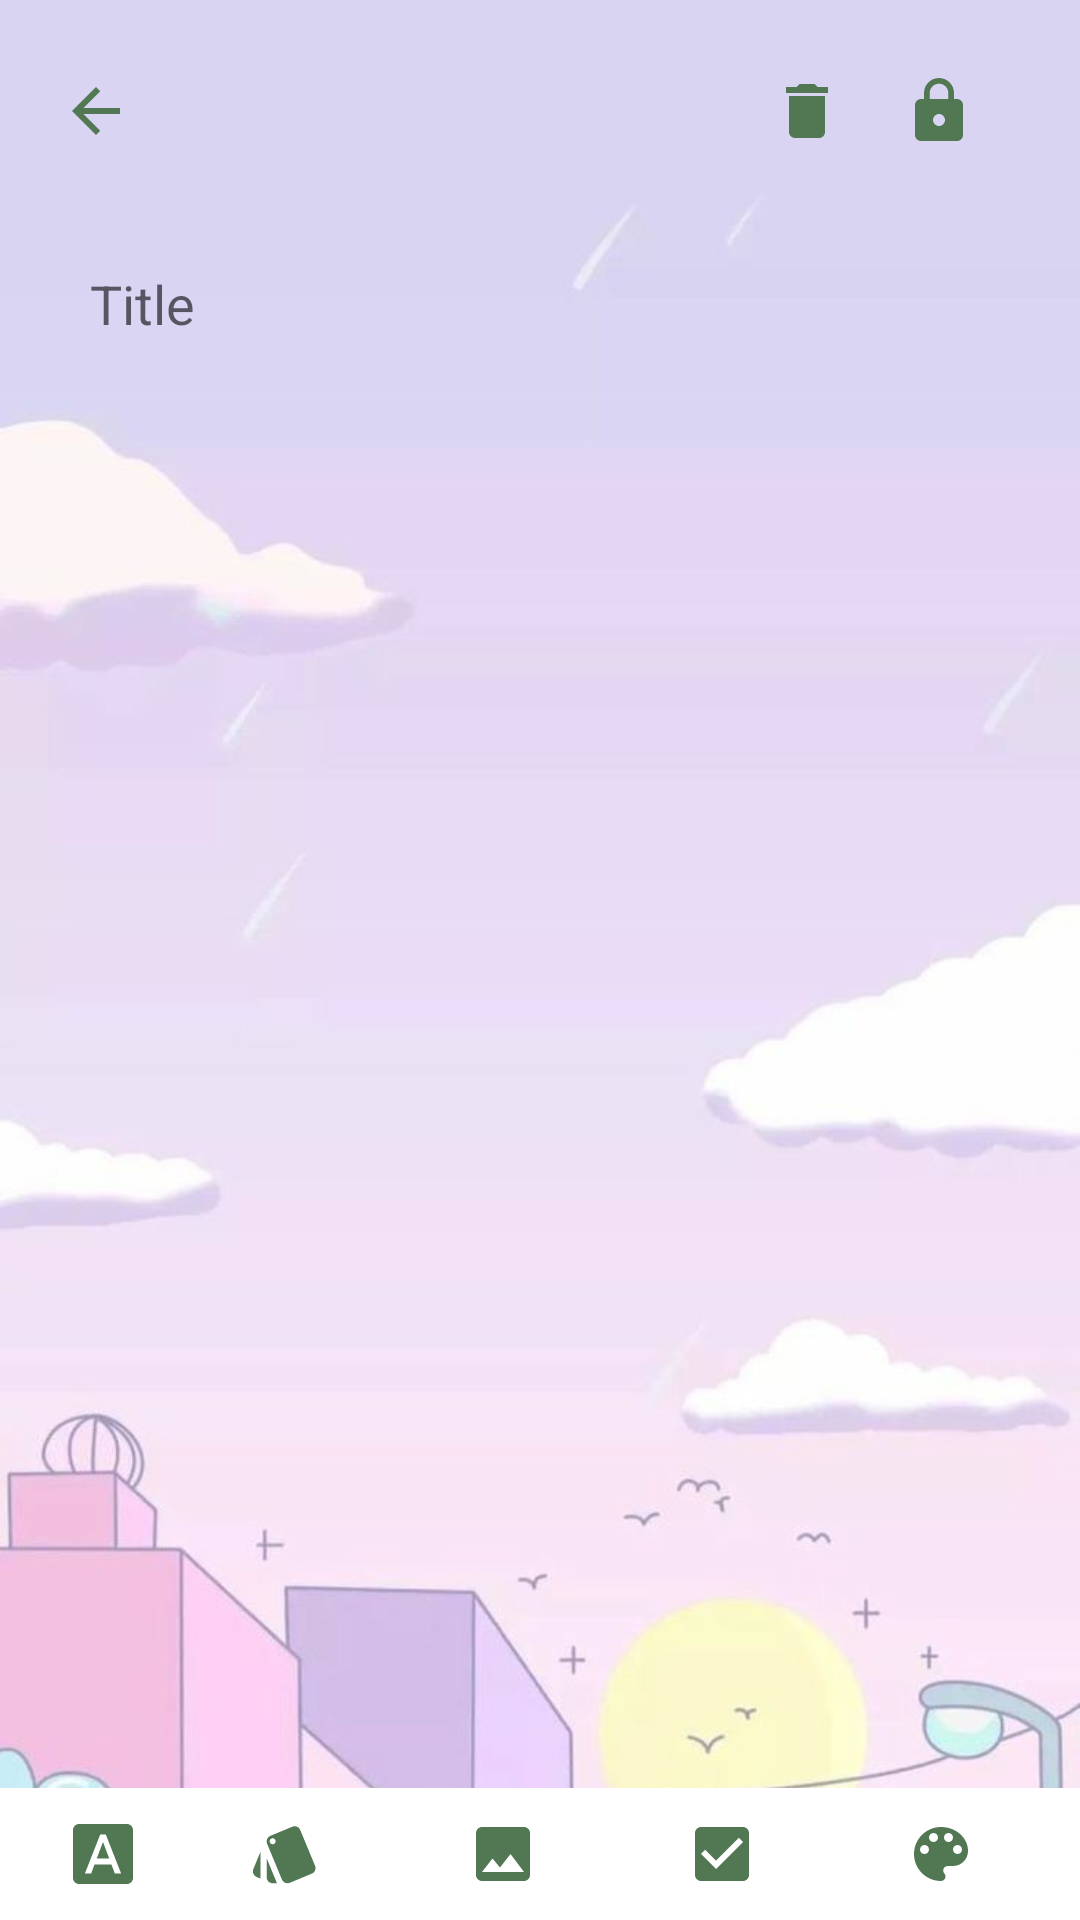

Icon click points for this 1080*1920 phone screenshot, format (x,y):
back: (96,111)
check: (722,1854)
delete: (807,111)
font: (103,1854)
lock: (939,109)
style: (284,1855)
